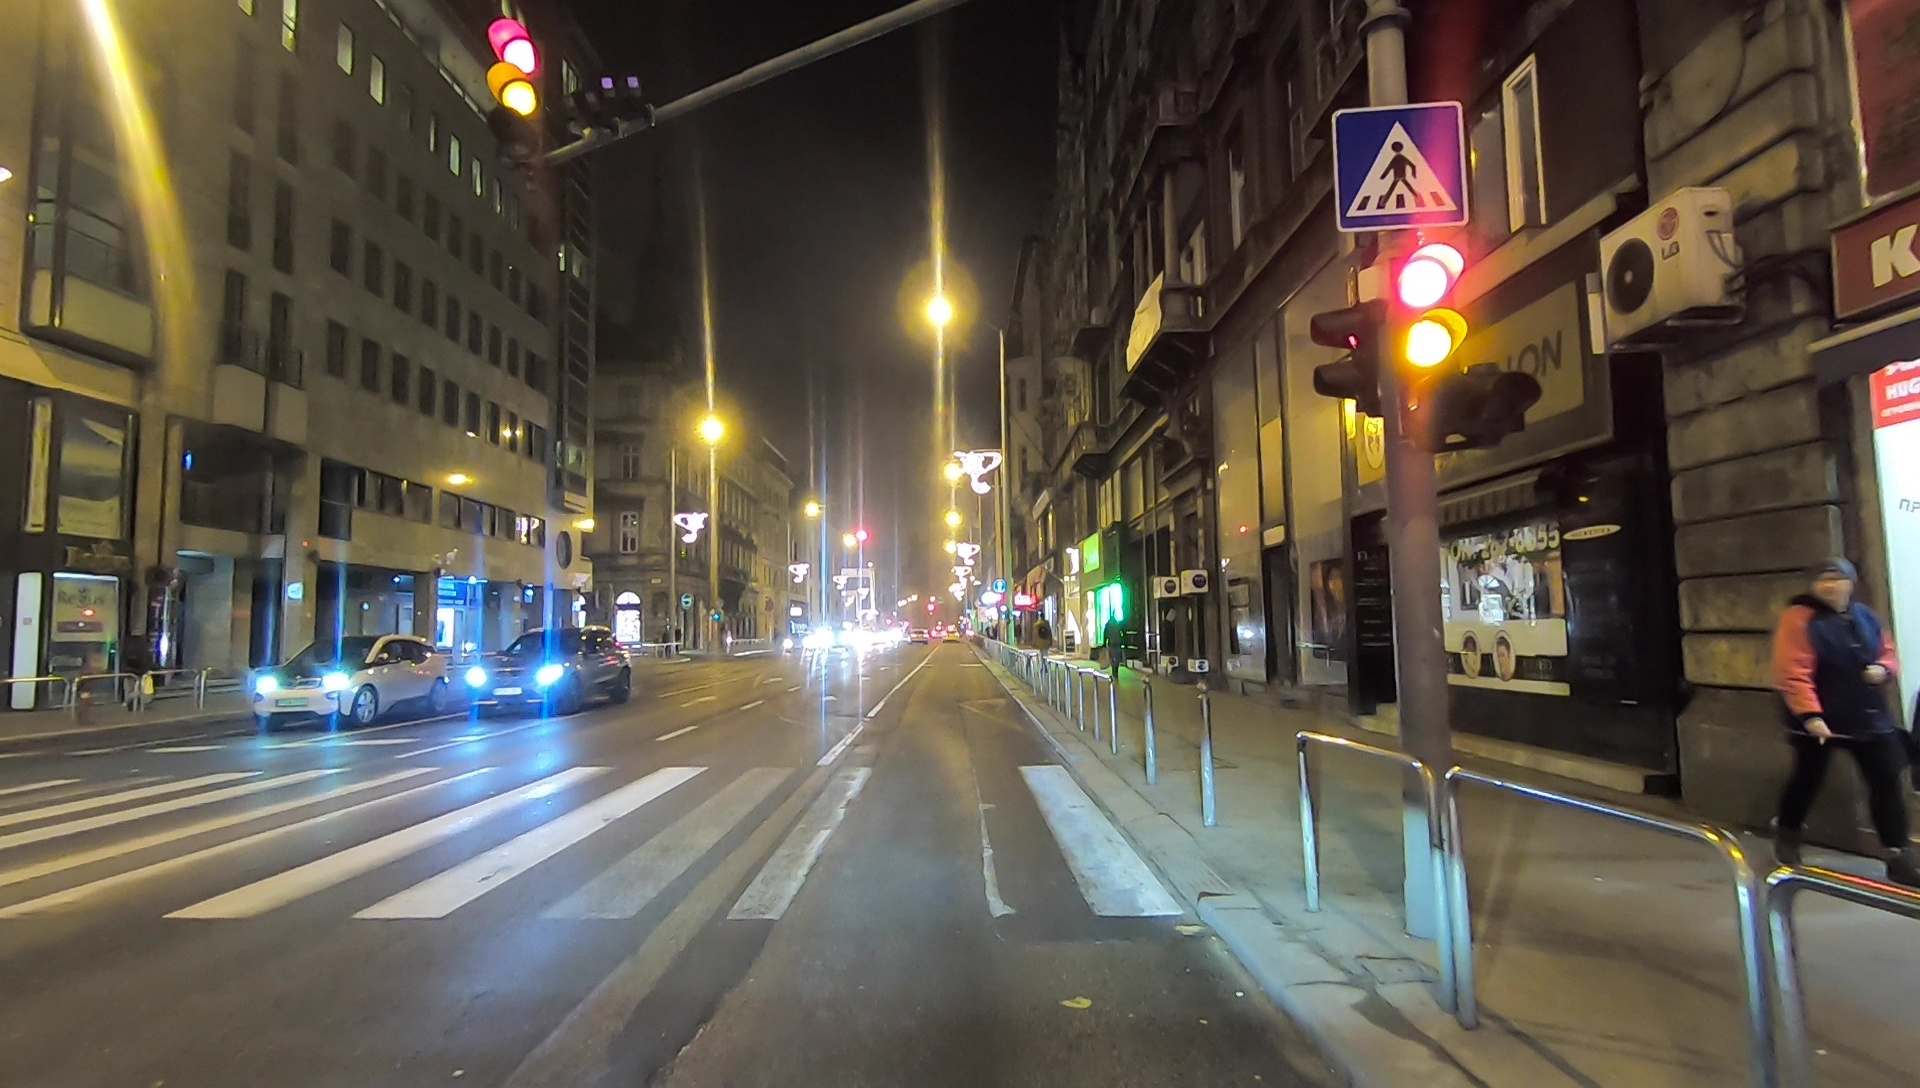person: (1760, 556, 1915, 897), (123, 635, 155, 712), (1099, 611, 1126, 674), (1031, 615, 1052, 668)
